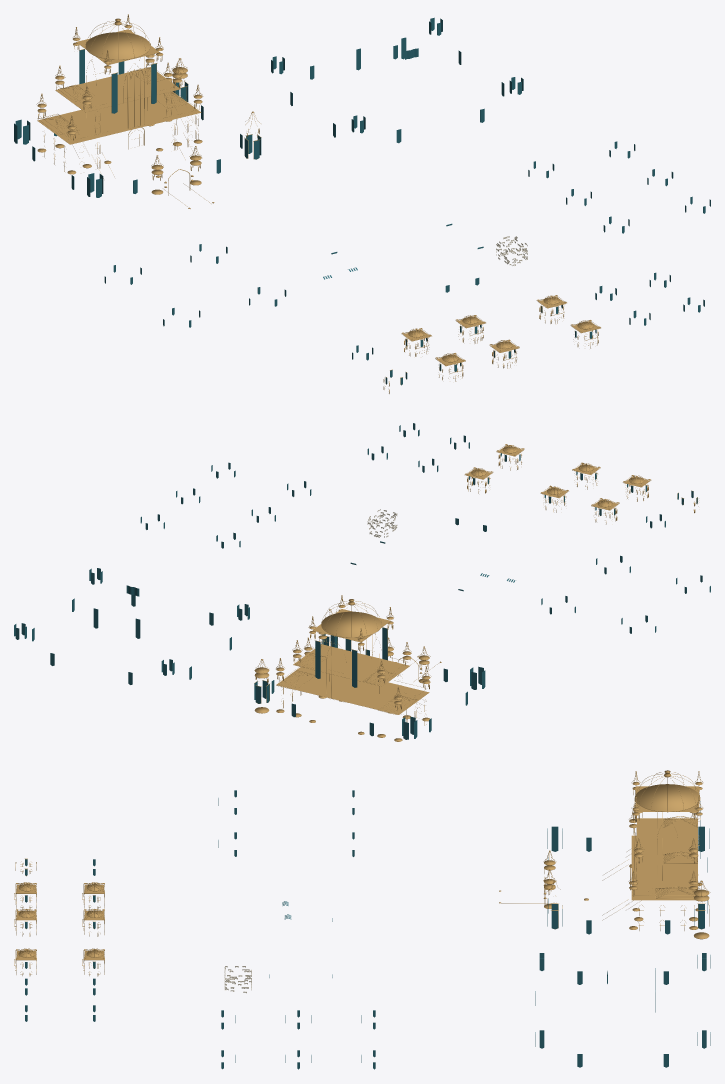
Rendered from Neris-28.glb.
3 renders of one model, top to bottom at view 1: azimuth 30°, elevation 25°; view 2: azimuth 150°, elevation 25°; view 3: azimuth 270°, elevation 25°, orthographic. The views are drawn at different scales.
Parts seen in each view (by area): view 1: Aged Gold (×2), Neris Teal Banner; view 2: Aged Gold (×2), Neris Teal Banner; view 3: Aged Gold (×2), Neris Teal Banner.
Part boxes in pixels (x1,y1,x2,y2): Aged Gold (×2): (36, 14, 600, 393); Neris Teal Banner: (14, 17, 710, 385); Aged Gold (×2): (254, 444, 698, 741); Neris Teal Banner: (14, 423, 710, 739); Aged Gold (×2): (14, 770, 710, 976); Neris Teal Banner: (25, 790, 710, 1069).
Bounding box in the file's own units: 239 × 54.58 × 266.
